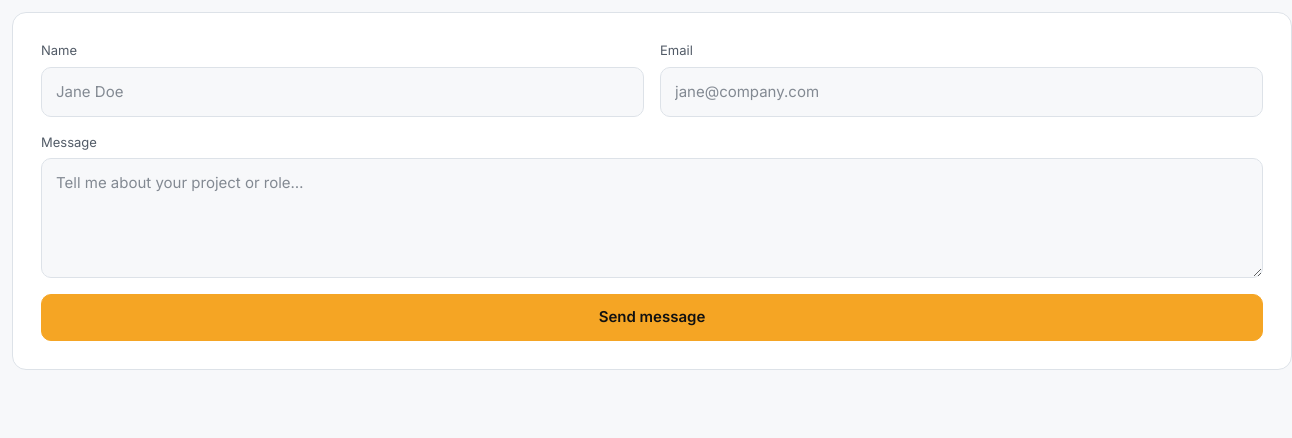
Test: ContactForm › shows an error on each empty field, focuses the first, sends nothing
Click the button "Send message". click: (652, 317)
box: 41,294 -> 1263,341
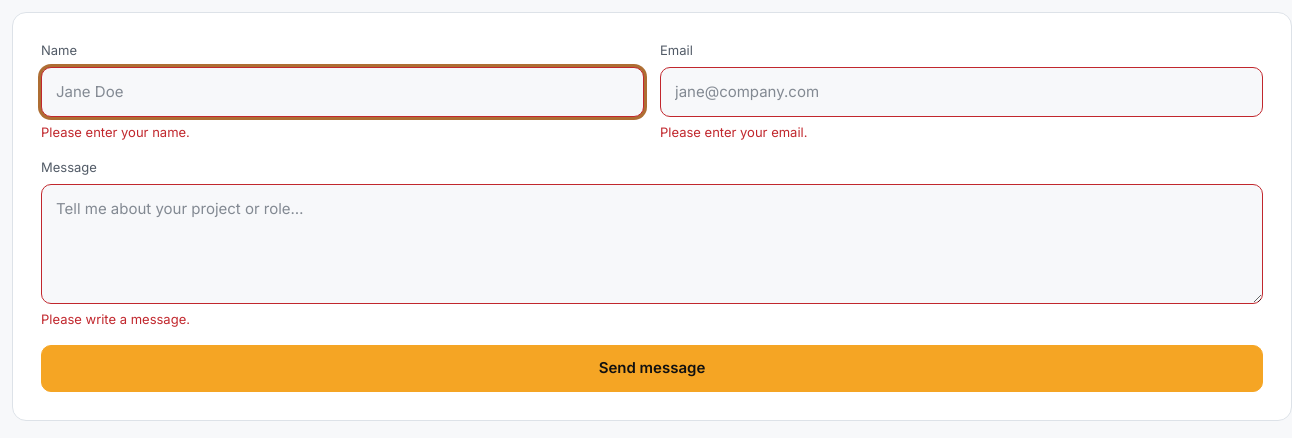
Now the text "Please enter your name." is shown, box 41,124 -> 190,140
Now the text "Please enter your email." is shown, box 660,124 -> 808,140
Now the text "Please write a message." is shown, box 41,310 -> 190,326
